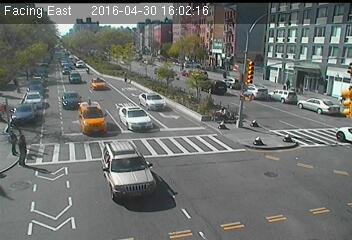neg: (114, 156, 138, 187), (127, 114, 146, 138), (237, 91, 251, 110), (130, 81, 144, 100), (202, 97, 216, 115), (120, 46, 134, 64), (164, 70, 177, 87), (34, 56, 47, 73), (80, 39, 92, 56)
pos: (8, 125, 39, 166), (3, 123, 30, 159), (283, 76, 295, 92)
